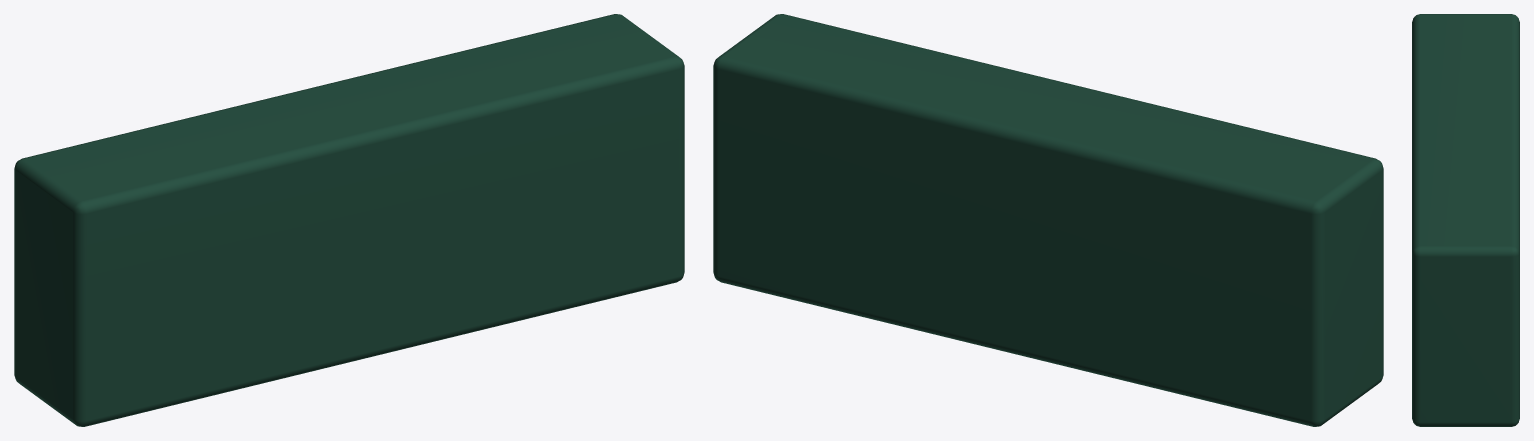
File: SM_EG_Emergency_exit_sign_dcbfe873ca.fbx
3 views of the same model, side by side, from view 1: azimuth 30°, elevation 25°; view 2: azimuth 150°, elevation 25°; view 3: azimuth 270°, elevation 25° (orthographic). The views are drawn at different scales.
Parts seen in each view (by area): view 1: SM_EG_Emergency_exit_sign_dcbfe873ca; view 2: SM_EG_Emergency_exit_sign_dcbfe873ca; view 3: SM_EG_Emergency_exit_sign_dcbfe873ca.
Part boxes in pixels (x1,y1,x2,y2): SM_EG_Emergency_exit_sign_dcbfe873ca: (14,14,684,426); SM_EG_Emergency_exit_sign_dcbfe873ca: (713,14,1383,426); SM_EG_Emergency_exit_sign_dcbfe873ca: (1412,14,1519,426).
Bounding box in the file's own units: 68 × 13 × 24.
